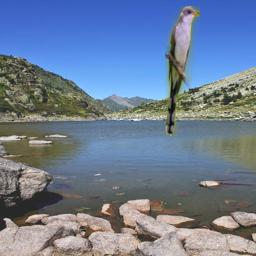Cuckoo: (165, 6, 200, 136)
